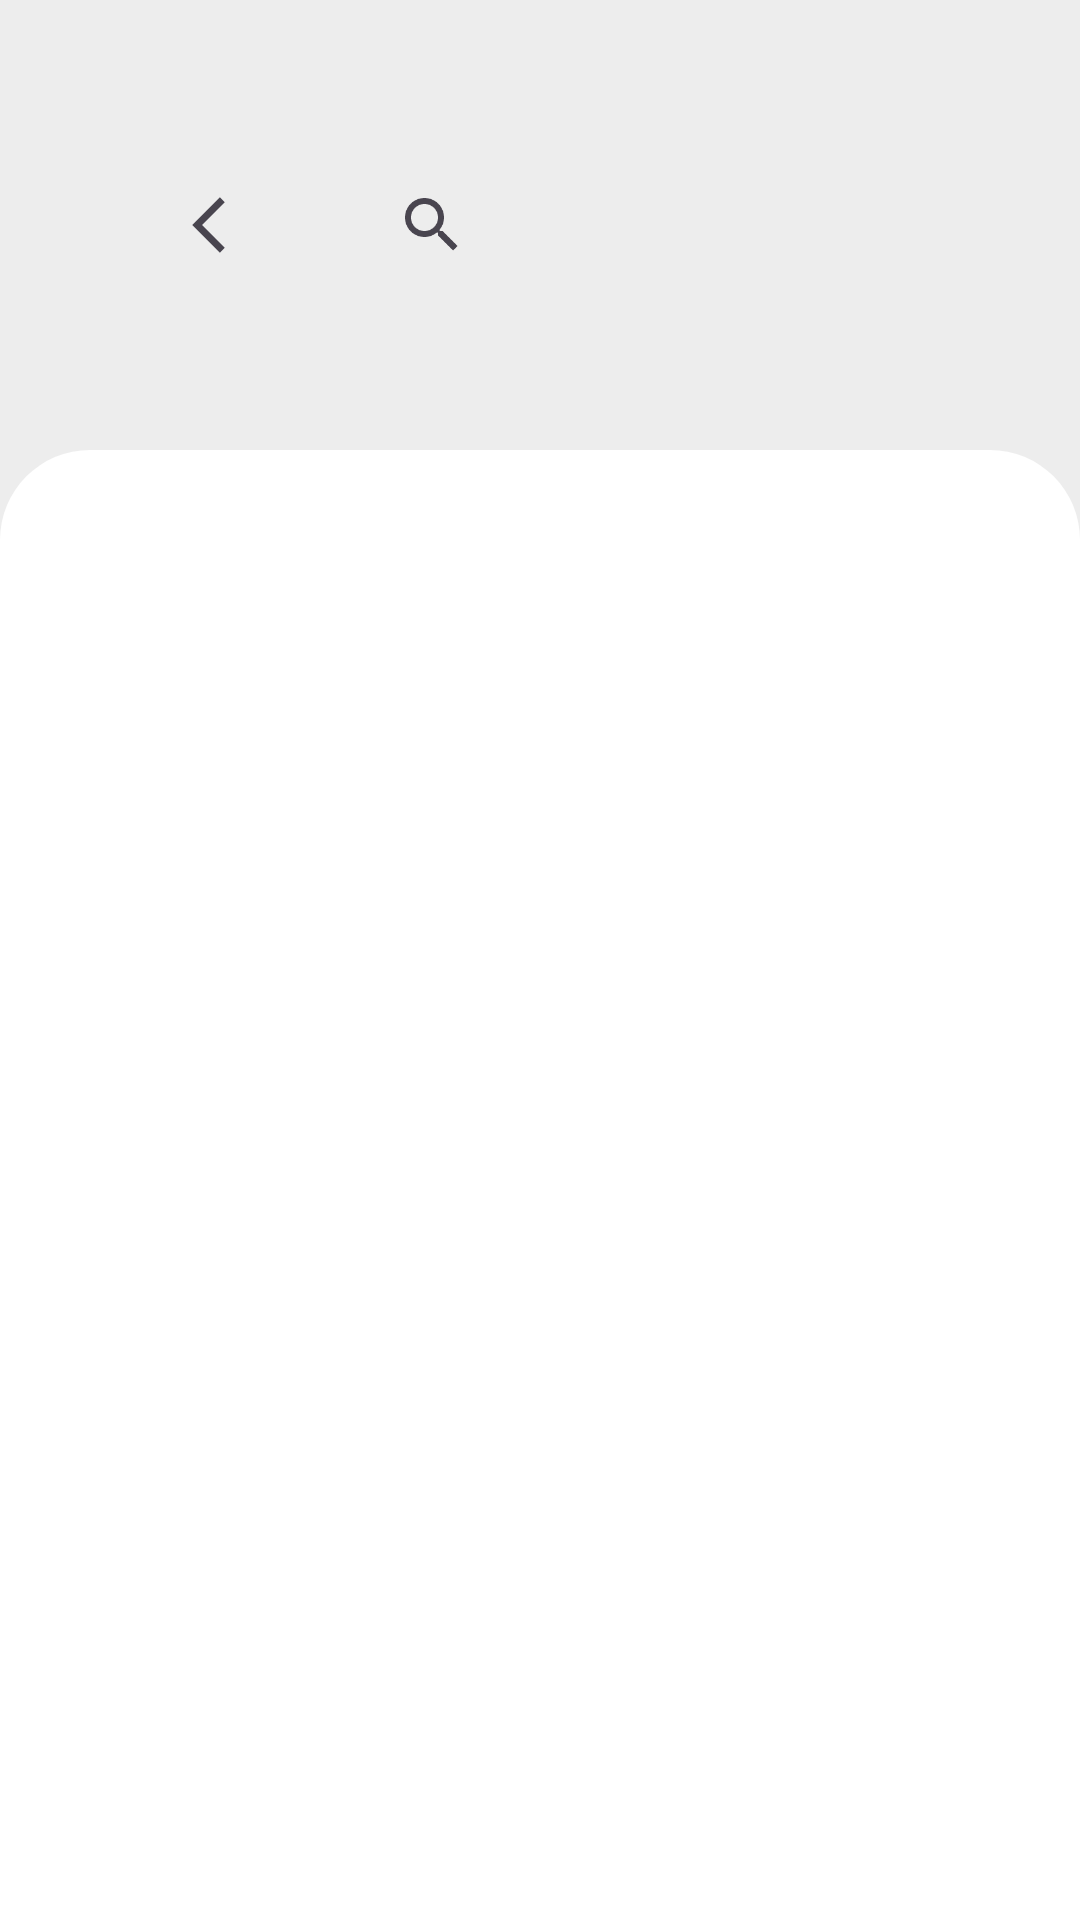

Named icons in this screenshot (1080px×1920px) and their centers, point (x, y):
chevron left: point (208, 225)
